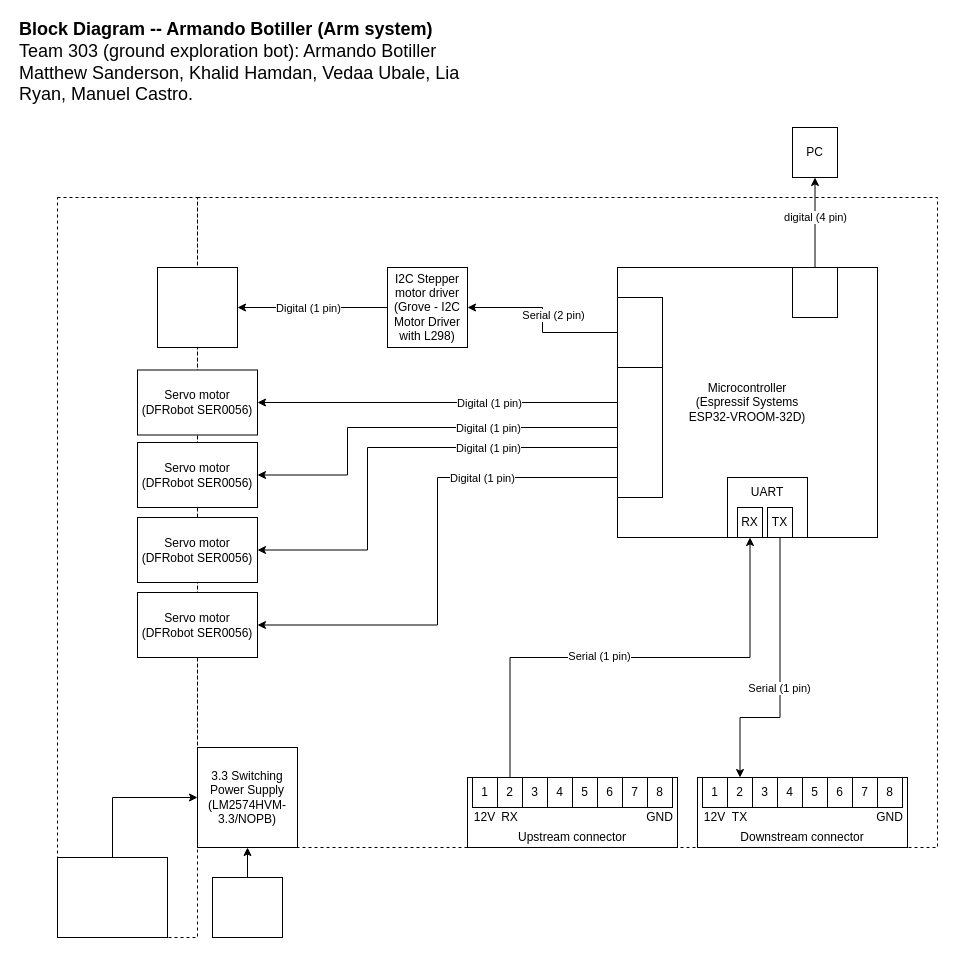
The diagram is 955 pixels wide and 955 high, and some of its shapes have lost their labels. The centre of each missing label's shape, as x and y in pixels:
12V Battery ( BatteryGuy BGN5500-10EWP-A800EC ): pixel 112 897
Barrel Jack Adapter: pixel 247 907
GPIO: pixel 639 432
I2C: pixel 639 332
ICSP/USB: pixel 815 292
Stepper motor ( Sparkfun Electronics 09238 ): pixel 197 307
